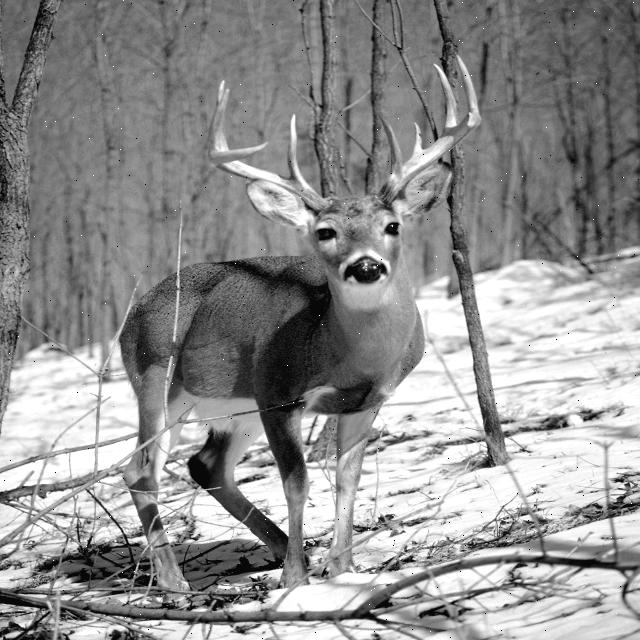deer: (209, 97, 477, 312)
